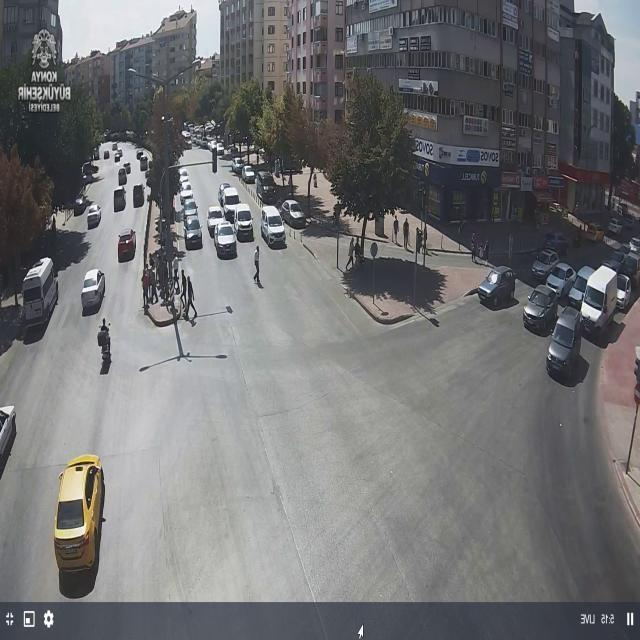Bus: (15, 251, 57, 344)
Car: (52, 447, 102, 572), (540, 320, 586, 376), (466, 256, 514, 306), (522, 282, 560, 330), (543, 250, 582, 291), (75, 268, 104, 320), (528, 238, 559, 276), (110, 224, 138, 262), (214, 216, 234, 264), (619, 263, 640, 304), (181, 220, 204, 256), (81, 201, 101, 232), (182, 193, 200, 218)
Van: (580, 262, 623, 337), (262, 199, 291, 251), (238, 199, 258, 252)
